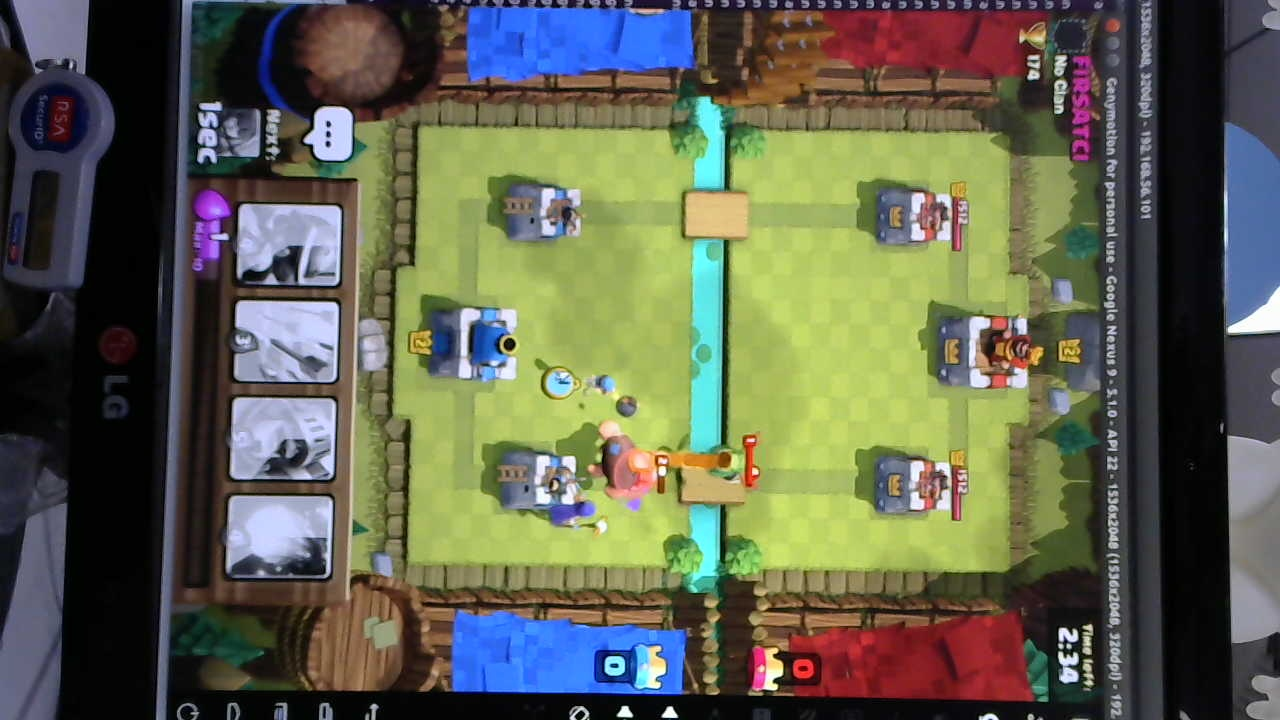arena: (493, 448, 583, 517), (502, 178, 584, 245)
bomb: (576, 360, 627, 409)
dragon: (704, 435, 749, 487)
earena: (873, 455, 955, 519), (873, 186, 954, 250)
eking: (932, 308, 1042, 393)
giant: (594, 420, 657, 498)
king: (430, 304, 523, 384)
witch: (535, 497, 612, 531)
